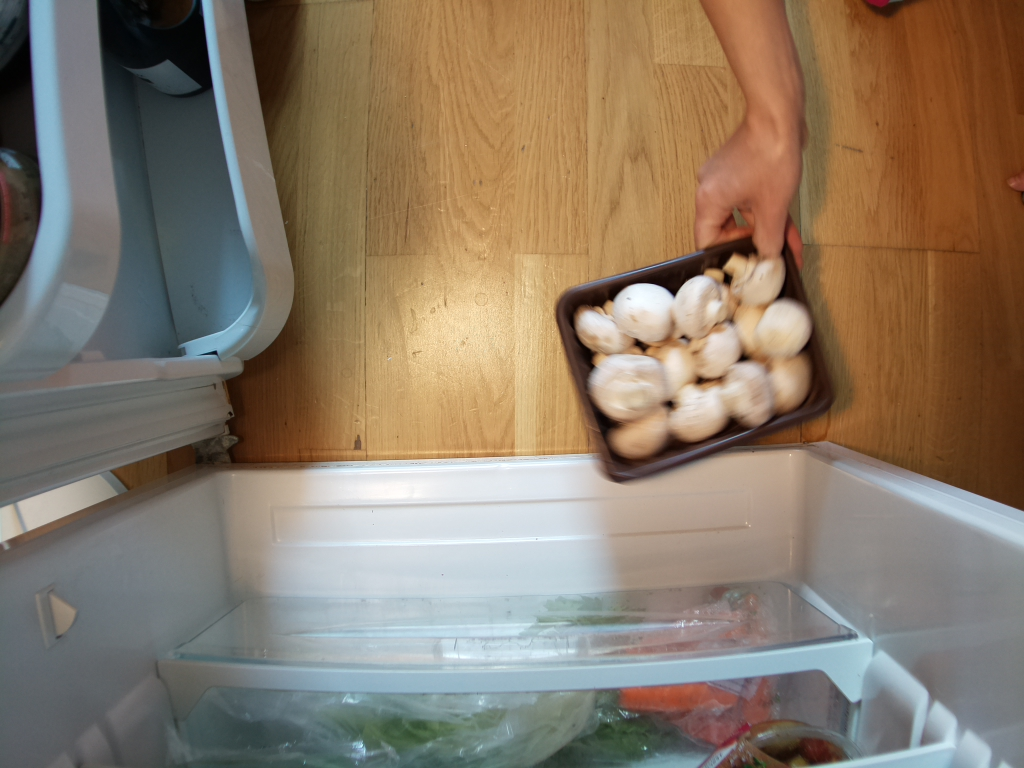mushrooms: (552, 209, 841, 497)
